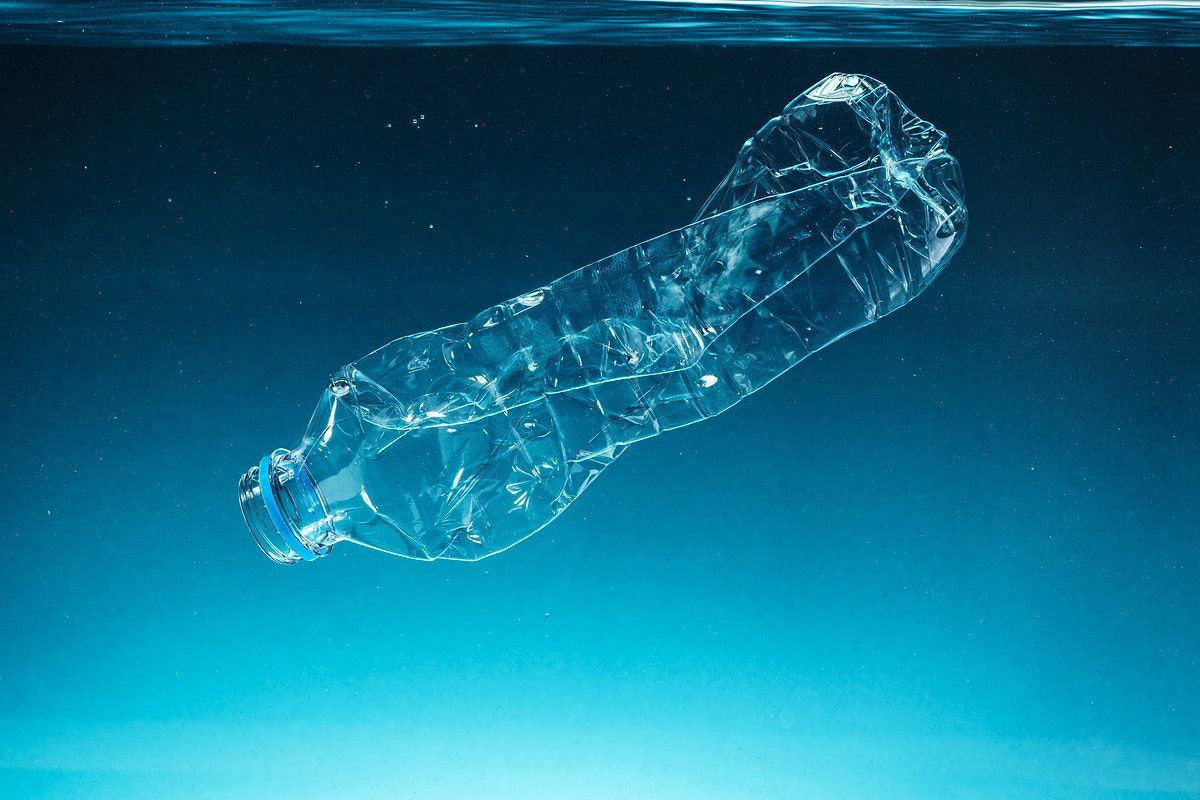Plastic: (239, 76, 981, 579)
